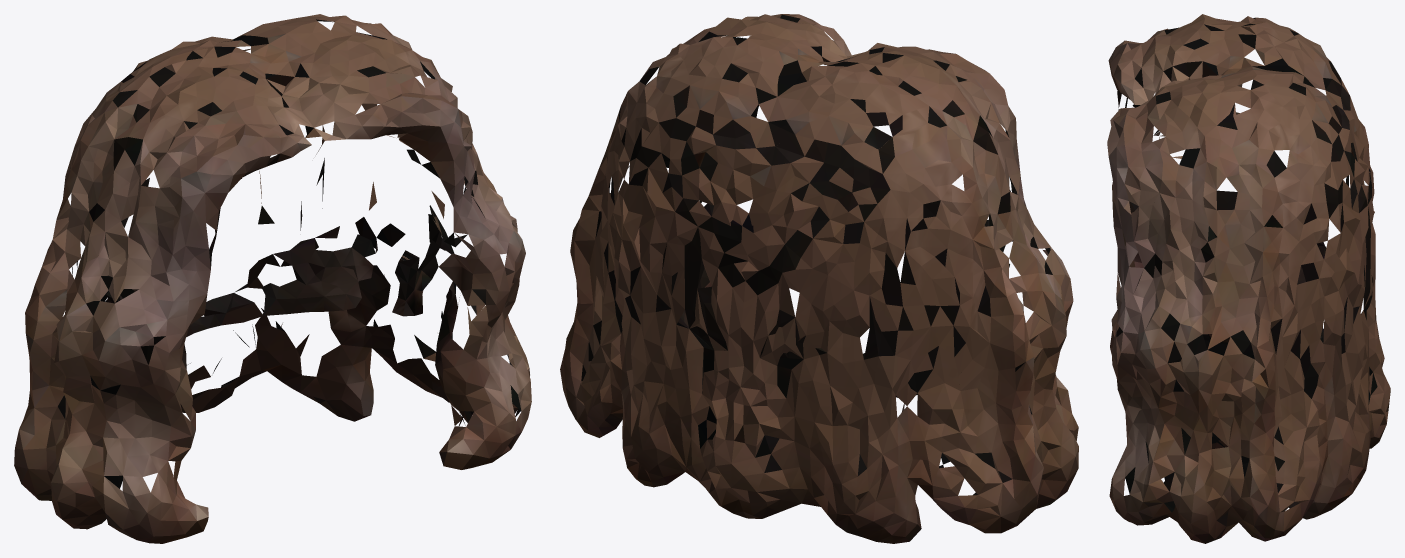
Rendered from hairstyle_023.glb.
3 renders of one model, left to right at view 1: azimuth 30°, elevation 25°; view 2: azimuth 150°, elevation 25°; view 3: azimuth 270°, elevation 25°, orthographic. The views are drawn at different scales.
Visible parts, largest first — view 1: geometry_0_023; view 2: geometry_0_023; view 3: geometry_0_023.
Part boxes in pixels (box(x1,y1,x2,y2)): geometry_0_023: box(14, 14, 531, 543); geometry_0_023: box(560, 14, 1078, 543); geometry_0_023: box(1107, 14, 1390, 543).
Bounding box in the file's own units: 1.35 × 1.18 × 0.7404.
1 material, 1 textured.
